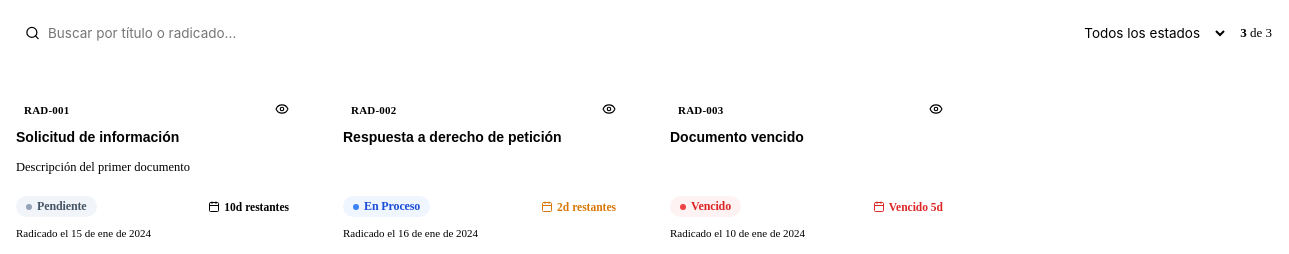
Test case: DocumentsList › status filter › should filter by status when selected
The width and height of the screenshot is (1289, 254).
Select "PENDIENTE" in the dropdown showing "Todos los estados" at (1148, 33), box [1068,16,1228,50]
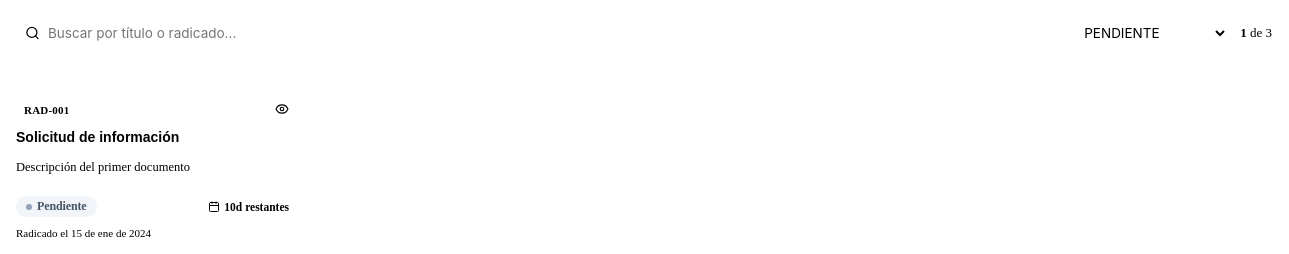
Check: the heading "Solicitud de información" is shown, box [16,129,179,145]
Check: the heading "Respuesta a derecho de petición" is gone
